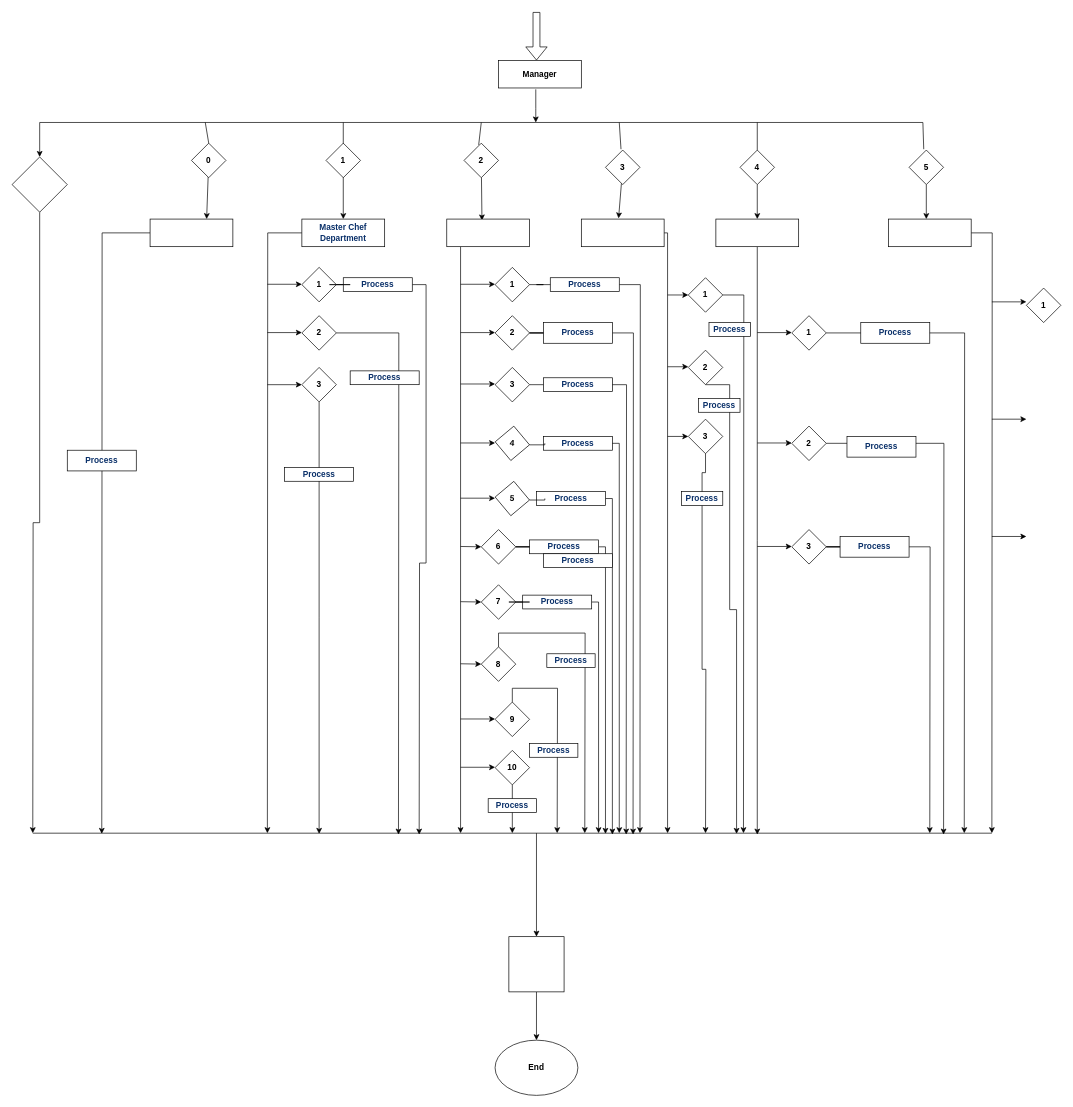
Some shapes in this 1073 by 1107 pixel diagram are drawn without their labels. Here are the shapes that lost their labels. From the top down, the box of each, then its label:
(11, 156, 67, 212): Other
(149, 218, 233, 247): Manager Profile
(446, 218, 530, 247): Waiter Department
(581, 218, 664, 247): Security Guard Department
(715, 218, 799, 247): Room Cleaner Department
(888, 218, 971, 247): Cashier Department
(508, 936, 564, 992): Display Output
